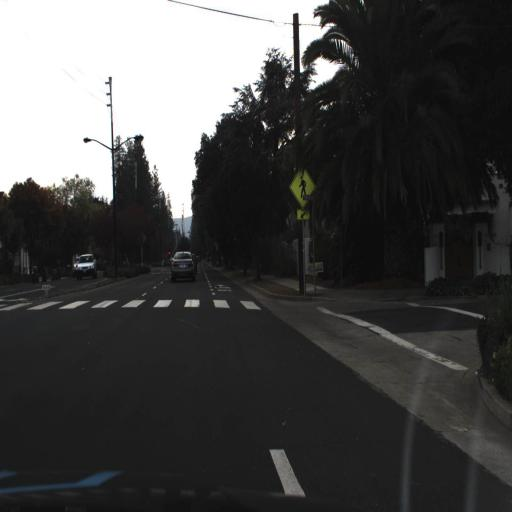car: (163, 235, 200, 286), (75, 249, 100, 281), (192, 248, 200, 279)
